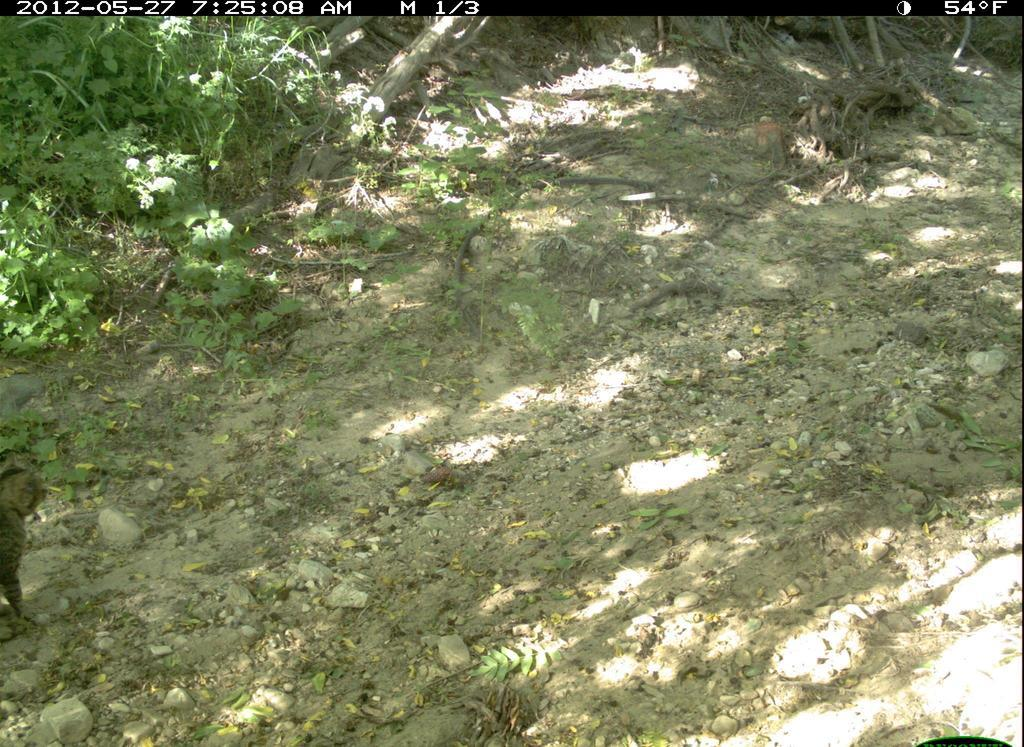cat: (2, 446, 65, 634)
